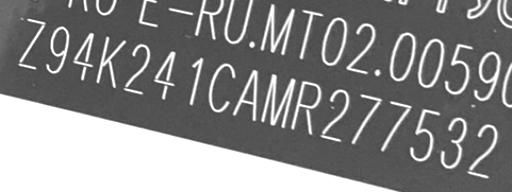letter: (288, 79, 324, 137), (260, 72, 296, 130), (466, 121, 500, 178), (94, 33, 128, 90), (379, 99, 415, 150), (409, 106, 441, 161), (320, 88, 350, 144), (352, 92, 382, 148), (438, 114, 468, 169), (121, 41, 151, 96), (206, 60, 236, 114), (17, 15, 45, 72), (230, 66, 258, 122), (44, 23, 72, 76), (150, 49, 178, 101), (70, 30, 96, 83), (186, 53, 206, 107)
